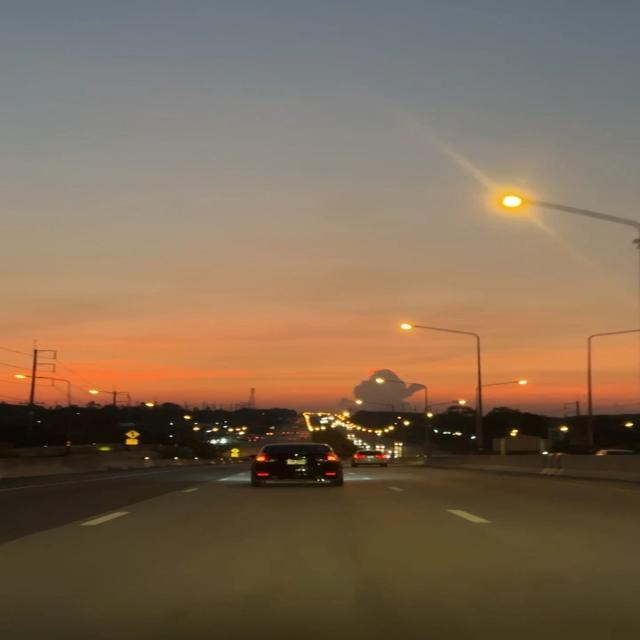Poth-hole: (23, 482, 610, 624)
